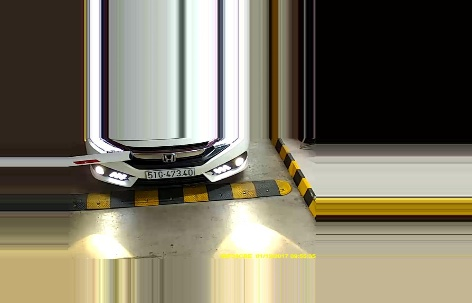plate: (142, 165, 198, 180)
